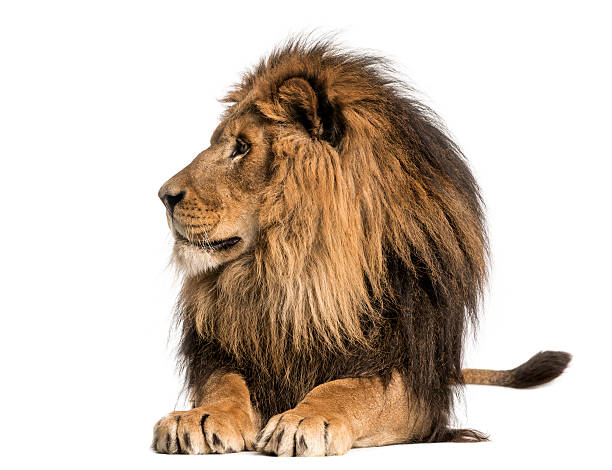lion: (118, 31, 511, 413)
